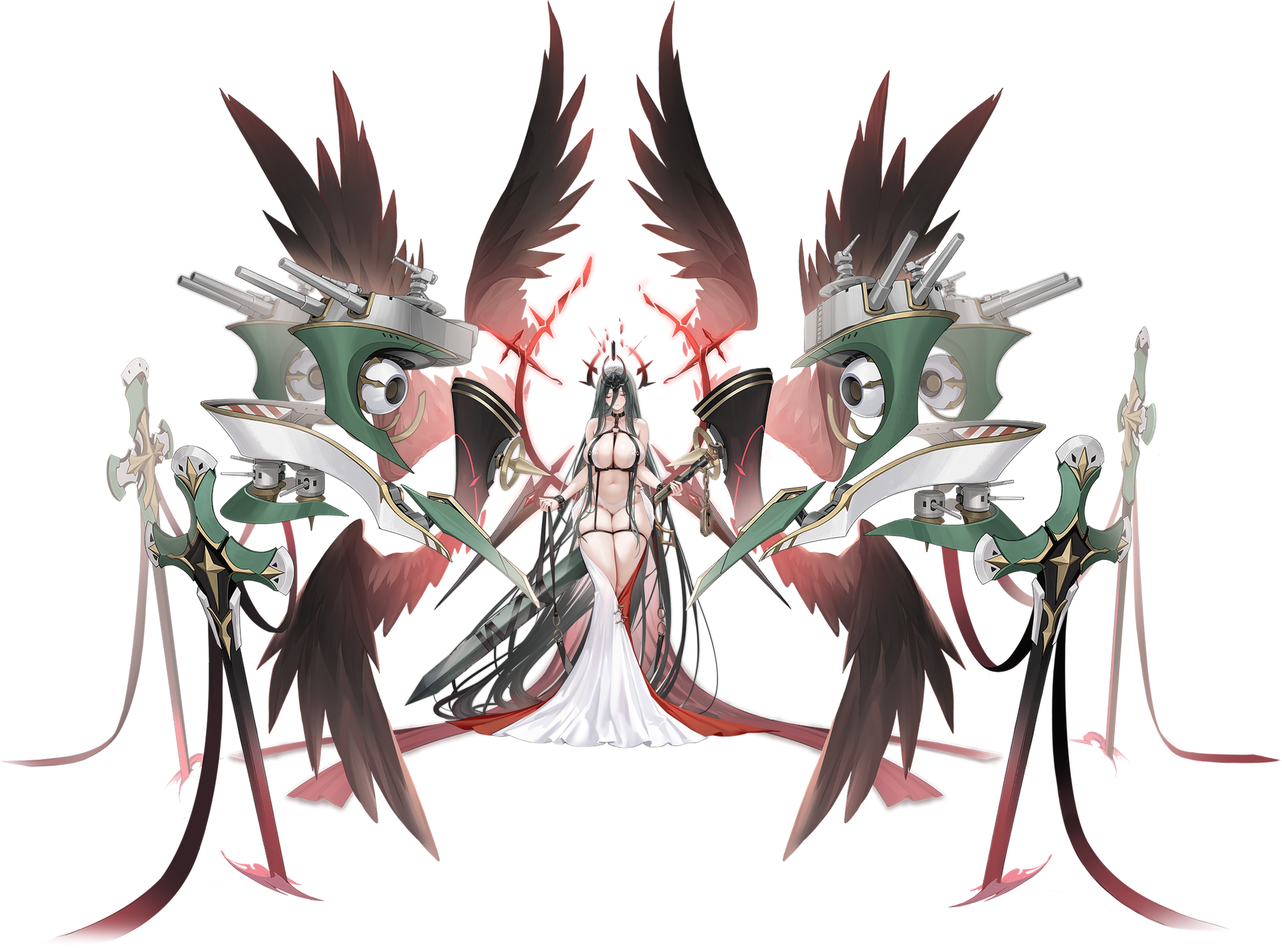person: (1, 0, 1281, 943)
